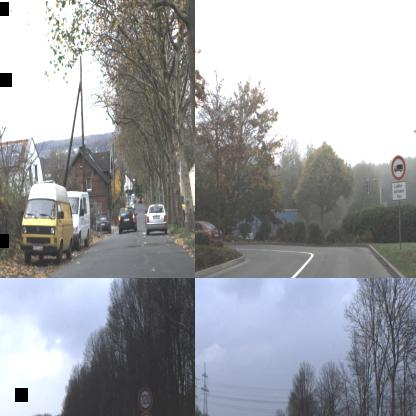no trucks: (390, 155, 406, 181)
speed limit 120: (138, 386, 153, 412)
